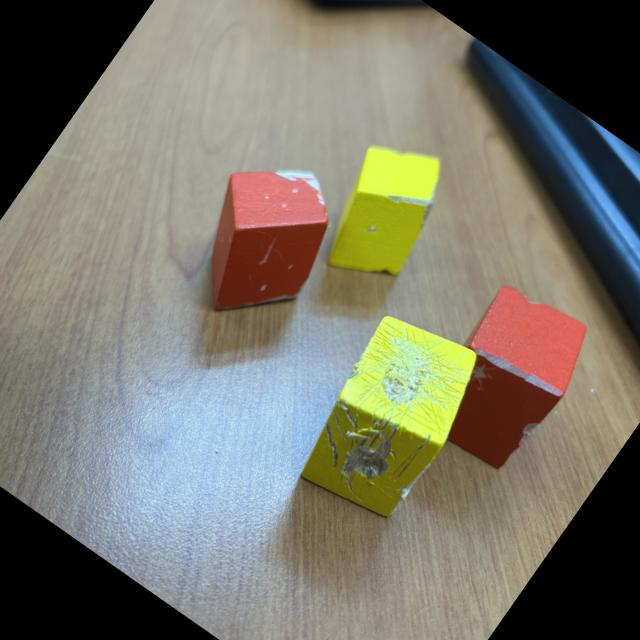broken: (279, 296, 500, 536), (160, 132, 362, 346), (410, 270, 604, 480), (296, 120, 466, 302)
